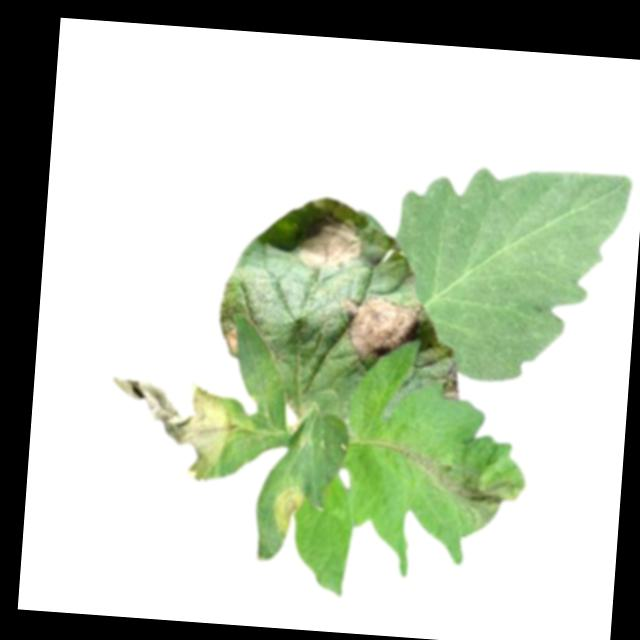Late_blight: (105, 373, 240, 482), (423, 454, 529, 529), (335, 291, 425, 371), (294, 209, 369, 270), (270, 482, 311, 542), (439, 366, 463, 400), (221, 318, 241, 354)
healthy: (386, 156, 633, 390)
